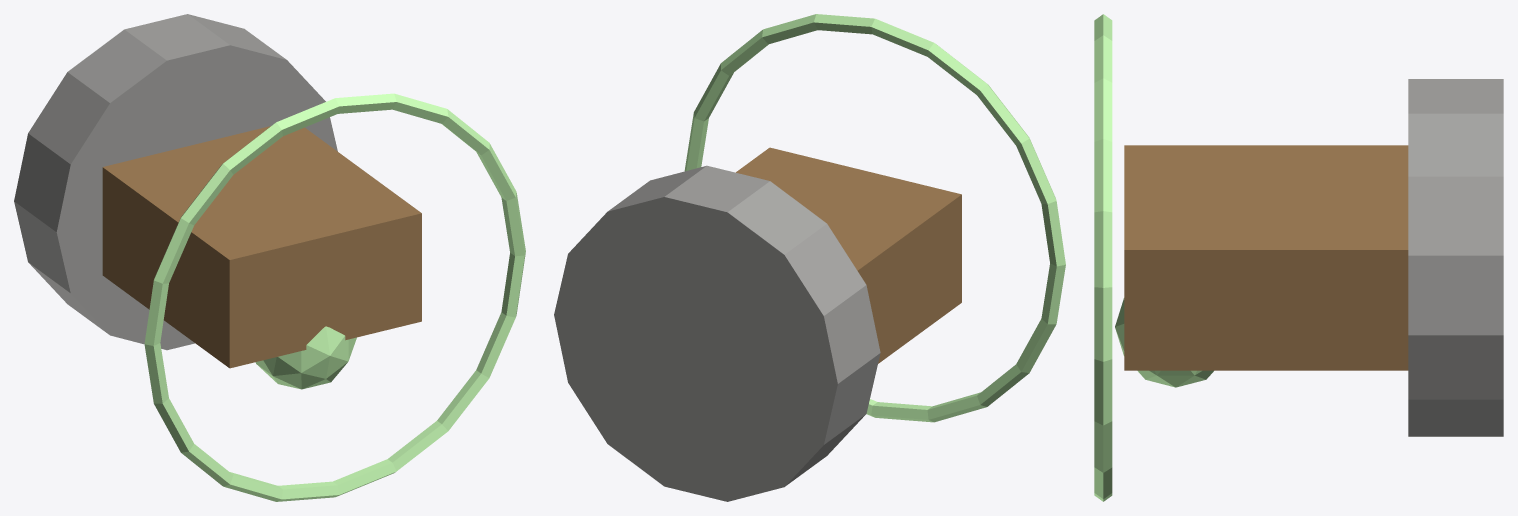
File: 01_vendor_counter_terminal.glb
3 views of the same model, side by side, from view 1: azimuth 30°, elevation 25°; view 2: azimuth 150°, elevation 25°; view 3: azimuth 270°, elevation 25° (orthographic). The views are drawn at different scales.
Visible parts, largest first — view 1: control_or_relic_body, interaction_base, objective_ring, activation_core; view 2: interaction_base, control_or_relic_body, objective_ring; view 3: control_or_relic_body, interaction_base, objective_ring, activation_core.
Boxes of the visible parts, x1,y1,x2,y2 form: control_or_relic_body: (102,126,421,368); interaction_base: (14,14,337,350); objective_ring: (144,93,525,501); activation_core: (255,326,356,389); interaction_base: (554,165,880,501); control_or_relic_body: (736,147,961,363); objective_ring: (684,14,1065,422); control_or_relic_body: (1124,145,1408,370); interaction_base: (1408,79,1503,436); objective_ring: (1094,14,1112,501); activation_core: (1115,298,1213,387).
Size of the model in its own units: 1.29 by 1.29 by 1.07.
